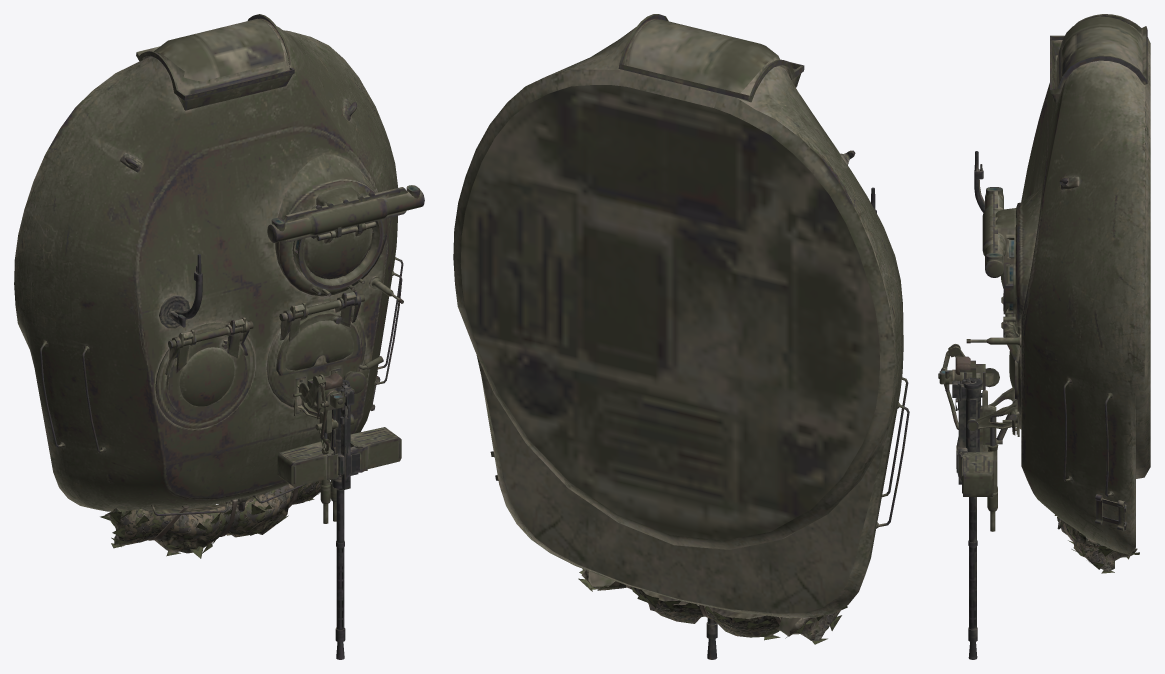
Rendered from Turret_01.glb.
The picture shows the model from 3 angles, left to right: view 1: azimuth 30°, elevation 25°; view 2: azimuth 150°, elevation 25°; view 3: azimuth 270°, elevation 25°; orthographic projection. The views are drawn at different scales.
Parts seen in each view (by area): view 1: set_0_group_0; view 2: set_0_group_0; view 3: set_0_group_0.
Part boxes in pixels (x1=…): set_0_group_0: x1=14, y1=14, x2=424, y2=659; set_0_group_0: x1=453, y1=14, x2=909, y2=659; set_0_group_0: x1=938, y1=14, x2=1150, y2=659.
Size of the model in its own units: 2.9 by 4.38 by 1.41.
Materials: 1 (1 with a texture image).
